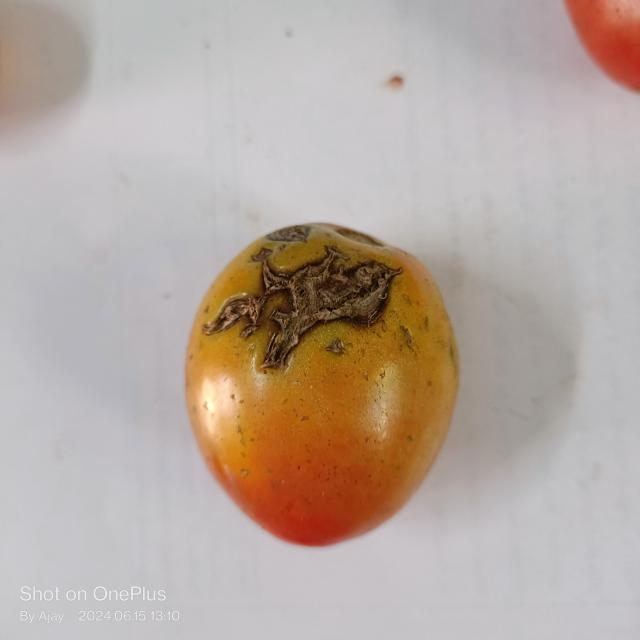Bacterial_Spot: (202, 248, 398, 374)
